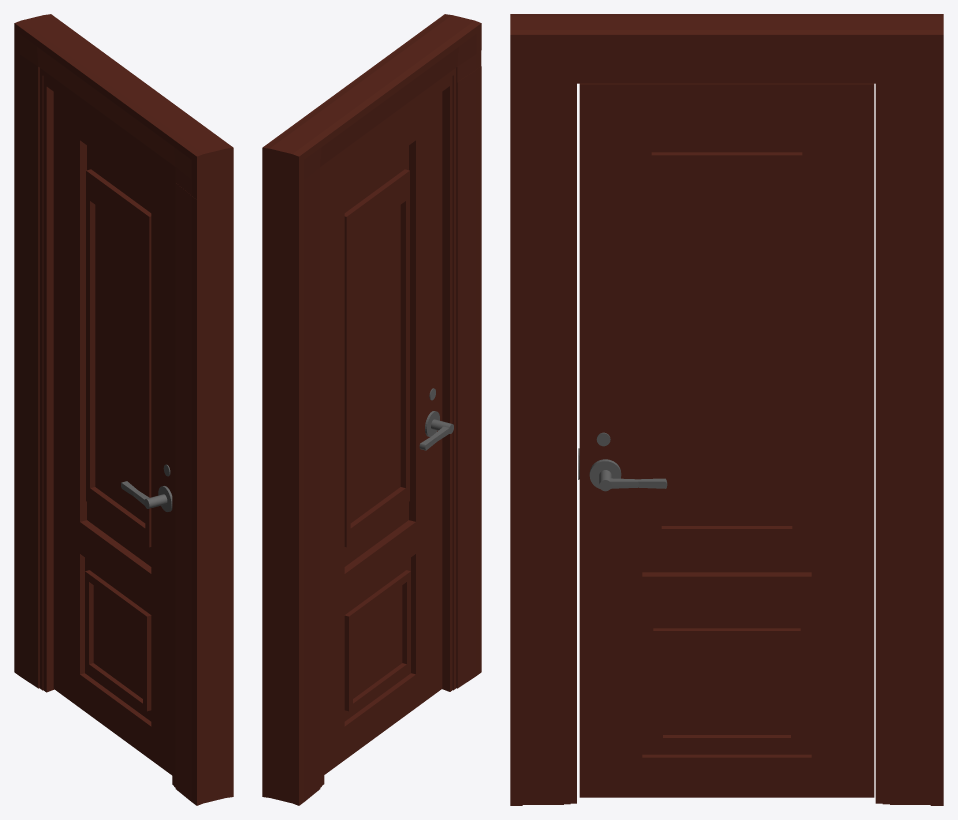
Rendered from PUERTA3.fbx.
3 renders of one model, left to right at view 1: azimuth 30°, elevation 25°; view 2: azimuth 150°, elevation 25°; view 3: azimuth 270°, elevation 25°, orthographic. The views are drawn at different scales.
Visible parts, largest first — view 1: marco, puerta; view 2: marco, puerta; view 3: puerta, marco.
Part boxes in pixels (bbox=[...]): marco: bbox=[14, 14, 233, 805]; puerta: bbox=[53, 92, 172, 775]; marco: bbox=[262, 14, 481, 805]; puerta: bbox=[324, 92, 453, 774]; puerta: bbox=[578, 83, 874, 797]; marco: bbox=[510, 14, 943, 805].
Size of the model in its own units: 94.92 by 1000 by 509.
